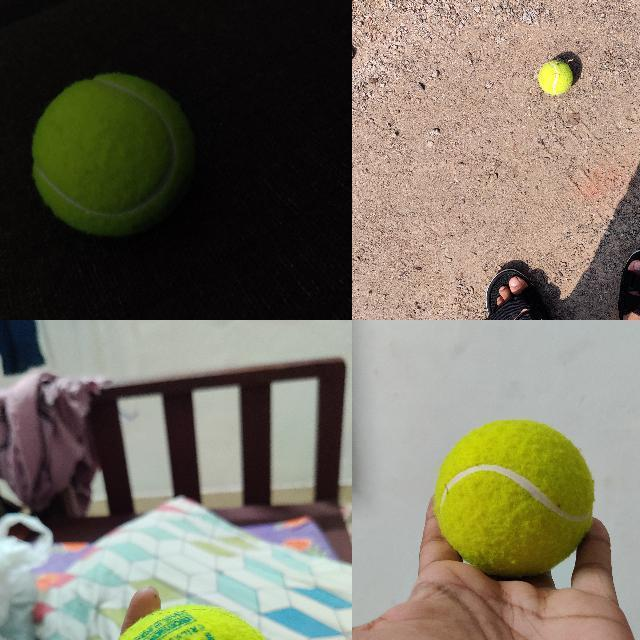tennis-ball: (30, 73, 196, 236), (434, 419, 594, 577), (538, 60, 572, 94)
